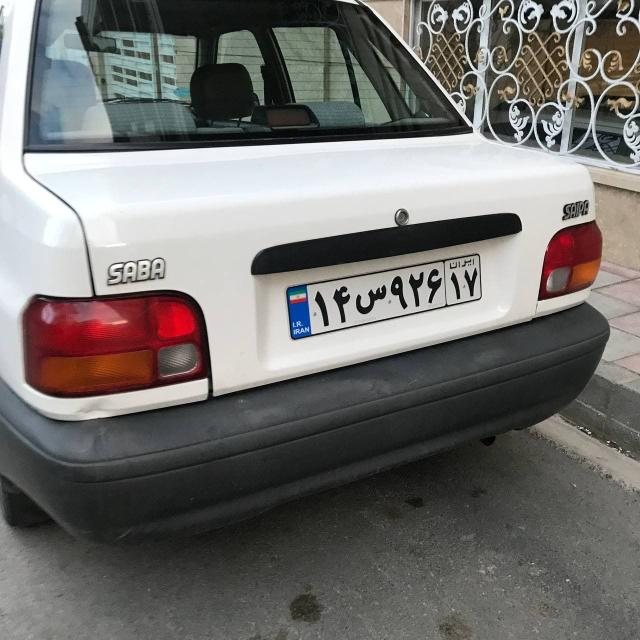Plates: (281, 246, 489, 339)
